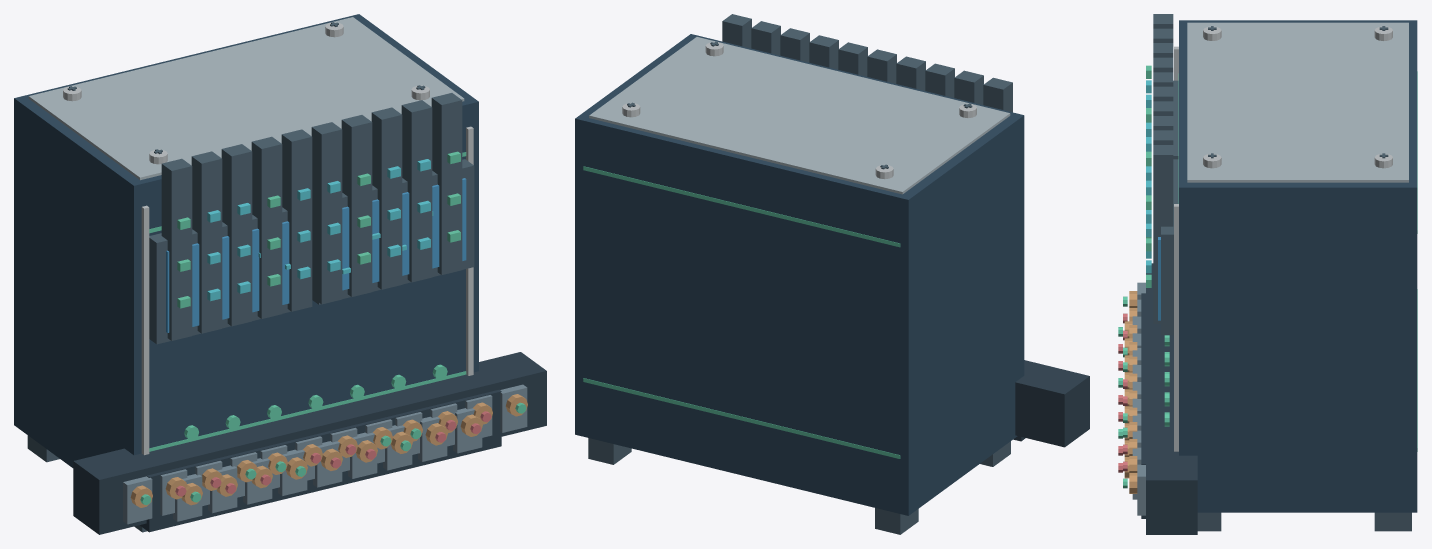
The model's file is 52_L74_LithographyProcessPLCRack.glb.
3 renders of one model, left to right at view 1: azimuth 30°, elevation 25°; view 2: azimuth 150°, elevation 25°; view 3: azimuth 270°, elevation 25°, orthographic. The views are drawn at different scales.
Visible parts, largest first — view 1: LithographyProcessPLCRack_Node_0000, LithographyProcessPLCRack_Node_0007, LithographyProcessPLCRack_Node_0117, LithographyProcessPLCRack_Node_0143, LithographyProcessPLCRack_Node_0097, LithographyProcessPLCRack_Node_0049, LithographyProcessPLCRack_Node_0077, LithographyProcessPLCRack_Node_0081, LithographyProcessPLCRack_Node_0085, LithographyProcessPLCRack_Node_0089, LithographyProcessPLCRack_Node_0093, LithographyProcessPLCRack_Node_0105 (+22 smaller); view 2: LithographyProcessPLCRack_Node_0000, LithographyProcessPLCRack_Node_0007, LithographyProcessPLCRack_Node_0117, LithographyProcessPLCRack_Node_0022, LithographyProcessPLCRack_Node_0020, LithographyProcessPLCRack_Node_0113, LithographyProcessPLCRack_Node_0077, LithographyProcessPLCRack_Node_0089, LithographyProcessPLCRack_Node_0101, LithographyProcessPLCRack_Node_0085, LithographyProcessPLCRack_Node_0097, LithographyProcessPLCRack_Node_0081 (+5 smaller); view 3: LithographyProcessPLCRack_Node_0000, LithographyProcessPLCRack_Node_0007, LithographyProcessPLCRack_Node_0143, LithographyProcessPLCRack_Node_0113, LithographyProcessPLCRack_Node_0031, LithographyProcessPLCRack_Node_0130, LithographyProcessPLCRack_Node_0006, LithographyProcessPLCRack_Node_0049, LithographyProcessPLCRack_Node_0117, LithographyProcessPLCRack_Node_0047, LithographyProcessPLCRack_Node_0048, LithographyProcessPLCRack_Node_0024 (+1 smaller).
Part boxes in pixels (box(x1,y1,x2,y2)): LithographyProcessPLCRack_Node_0000: box(14, 14, 478, 467); LithographyProcessPLCRack_Node_0007: box(28, 17, 464, 180); LithographyProcessPLCRack_Node_0117: box(73, 425, 276, 534); LithographyProcessPLCRack_Node_0143: box(353, 352, 546, 436); LithographyProcessPLCRack_Node_0097: box(311, 122, 342, 304); LithographyProcessPLCRack_Node_0049: box(140, 389, 501, 532); LithographyProcessPLCRack_Node_0077: box(161, 158, 192, 340); LithographyProcessPLCRack_Node_0081: box(191, 151, 222, 333); LithographyProcessPLCRack_Node_0085: box(221, 144, 252, 326); LithographyProcessPLCRack_Node_0089: box(251, 136, 282, 318); LithographyProcessPLCRack_Node_0093: box(281, 129, 312, 311); LithographyProcessPLCRack_Node_0105: box(371, 107, 402, 289); LithographyProcessPLCRack_Node_0000: box(575, 34, 1024, 515); LithographyProcessPLCRack_Node_0007: box(589, 37, 1010, 194); LithographyProcessPLCRack_Node_0117: box(1015, 360, 1089, 447); LithographyProcessPLCRack_Node_0022: box(583, 166, 900, 247); LithographyProcessPLCRack_Node_0020: box(583, 378, 900, 458); LithographyProcessPLCRack_Node_0113: box(722, 14, 751, 48); LithographyProcessPLCRack_Node_0077: box(983, 77, 1012, 112); LithographyProcessPLCRack_Node_0089: box(896, 56, 925, 90); LithographyProcessPLCRack_Node_0101: box(809, 35, 838, 69); LithographyProcessPLCRack_Node_0085: box(925, 63, 954, 97); LithographyProcessPLCRack_Node_0097: box(838, 42, 867, 76); LithographyProcessPLCRack_Node_0081: box(954, 70, 983, 104); LithographyProcessPLCRack_Node_0000: box(1179, 20, 1417, 512); LithographyProcessPLCRack_Node_0007: box(1187, 22, 1408, 182); LithographyProcessPLCRack_Node_0143: box(1146, 394, 1197, 534); LithographyProcessPLCRack_Node_0113: box(1153, 145, 1173, 323); LithographyProcessPLCRack_Node_0031: box(1161, 159, 1178, 335); LithographyProcessPLCRack_Node_0130: box(1146, 329, 1173, 414); LithographyProcessPLCRack_Node_0006: box(1174, 204, 1178, 451); LithographyProcessPLCRack_Node_0049: box(1141, 293, 1145, 518); LithographyProcessPLCRack_Node_0117: box(1146, 263, 1173, 348); LithographyProcessPLCRack_Node_0047: box(1374, 512, 1411, 531); LithographyProcessPLCRack_Node_0048: box(1197, 512, 1221, 531); LithographyProcessPLCRack_Node_0024: box(1173, 80, 1178, 159).
Size of the model in its own units: 1.79 by 1.41 by 1.04.
